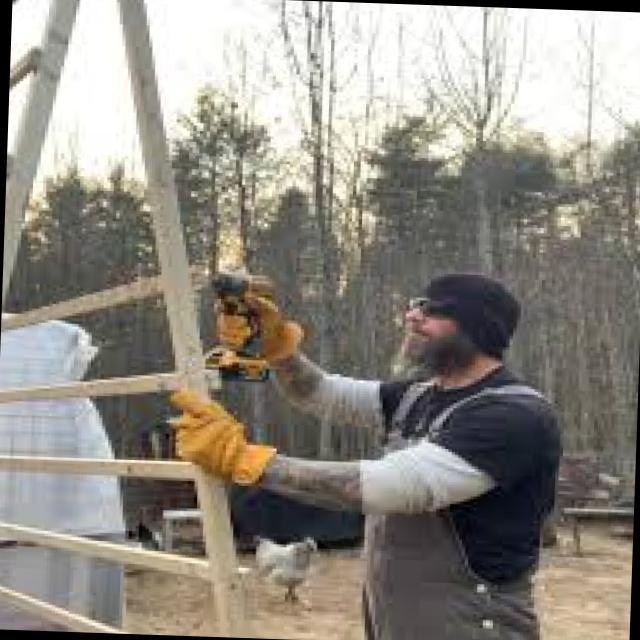gloved: (156, 380, 277, 485), (196, 284, 314, 378)
